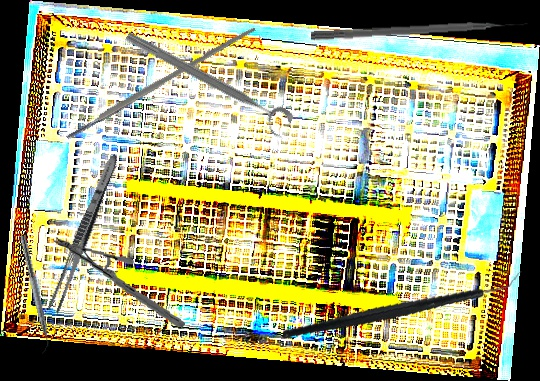Chopper: (282, 239, 522, 370), (11, 235, 55, 355)
Dressing Forceps: (45, 150, 123, 317)
Fixation Ring: (117, 27, 296, 141)
Needle Holder: (47, 237, 192, 328)
Pusher: (310, 19, 529, 43)
Scalpel Handle: (64, 24, 257, 141)
